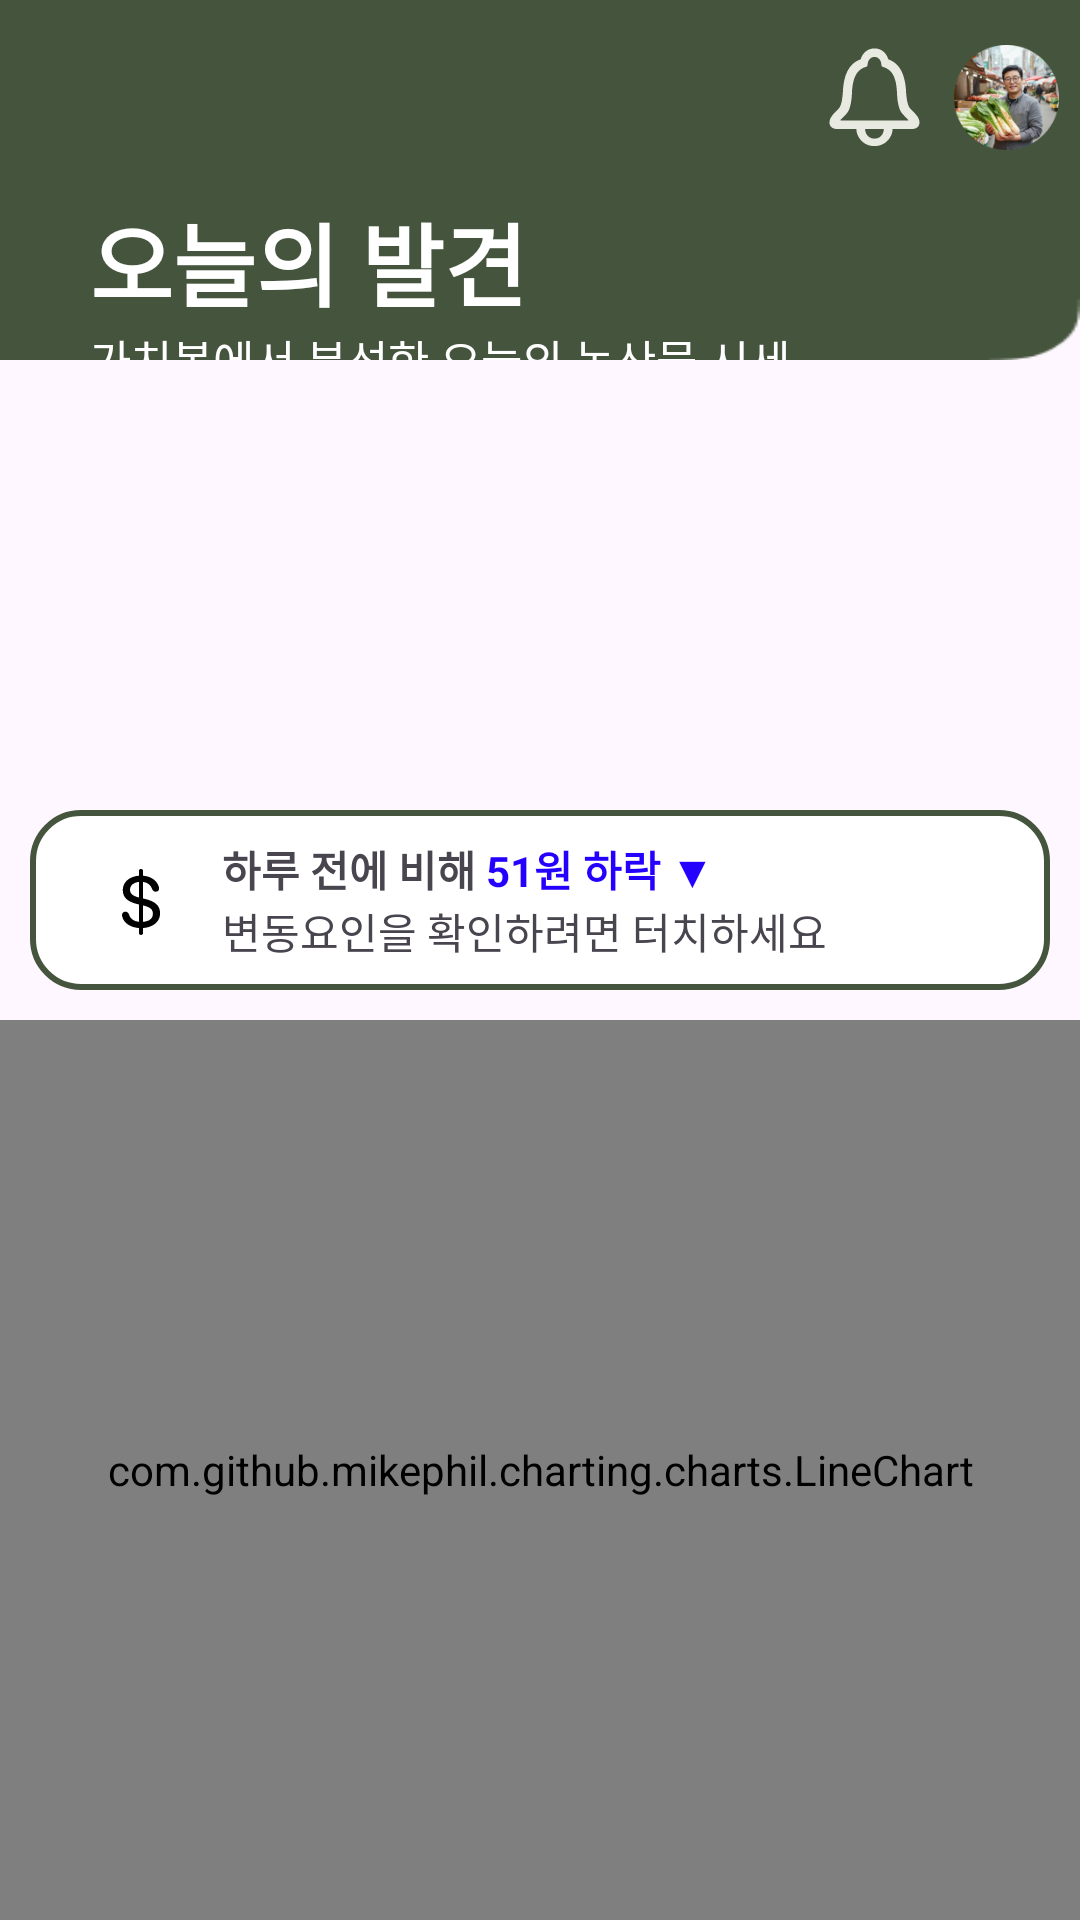

Icons on this 1080 x 1920 Android screen, each with the point to tap as [x,y]:
bell: [874,97]
dollar: [141,902]
profile: [1006,97]
